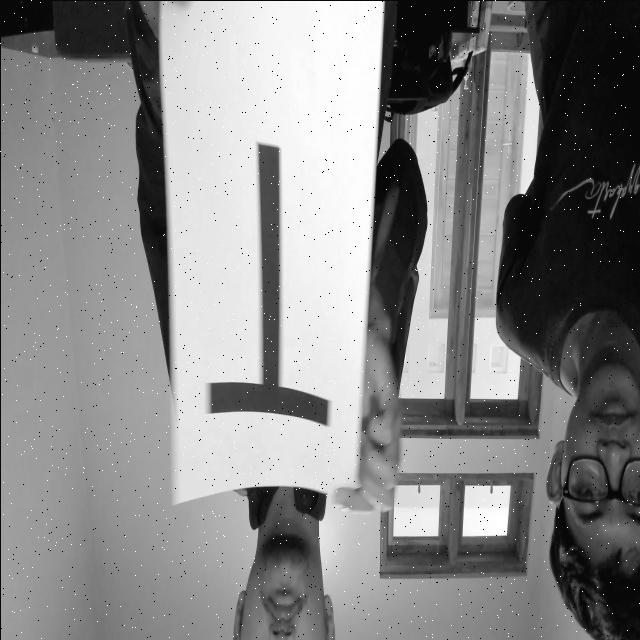t: (193, 118, 336, 440)
